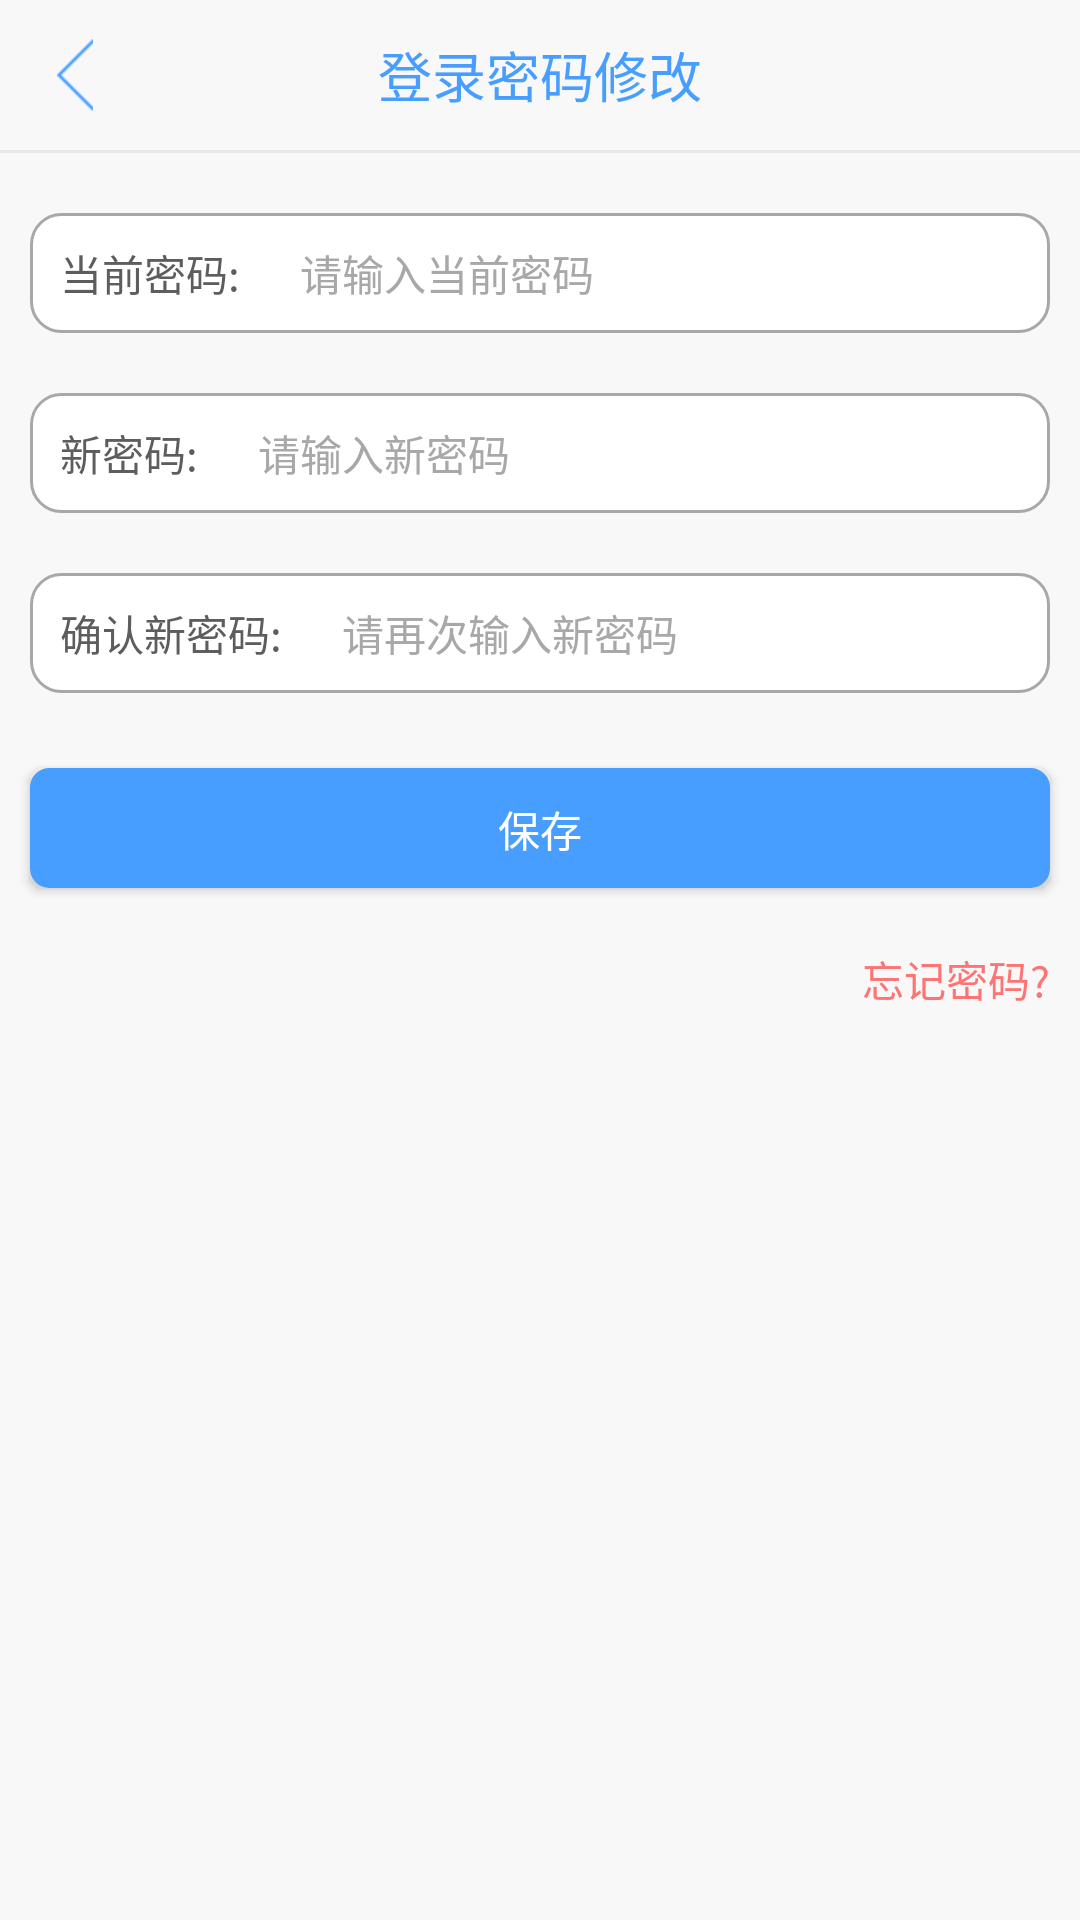

Where icons sit on this 1080 × 1920 app screen, as (x1=x1, y1=y1, x2=x2, y2=y2):
back: (x1=57, y1=39, x2=93, y2=111)
